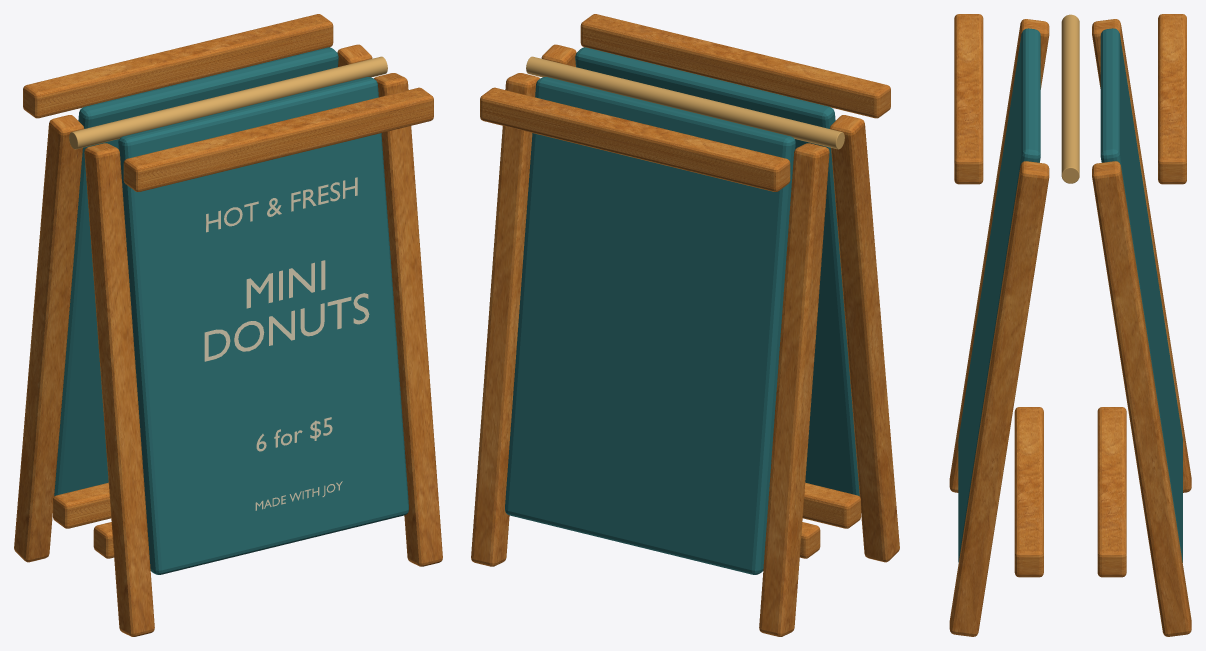
Rendered from SandwichBoard.fbx.
3 renders of one model, left to right at view 1: azimuth 30°, elevation 25°; view 2: azimuth 150°, elevation 25°; view 3: azimuth 270°, elevation 25°, orthographic.
Visible parts, largest first — view 1: SandwichBoard_Body; view 2: SandwichBoard_Body; view 3: SandwichBoard_Body.
Part boxes in pixels (x1,y1,x2,y2): SandwichBoard_Body: [14, 14, 442, 636]; SandwichBoard_Body: [471, 14, 899, 636]; SandwichBoard_Body: [949, 14, 1191, 636].
Size of the model in its own units: 0.565 by 0.8101 by 0.4071.
